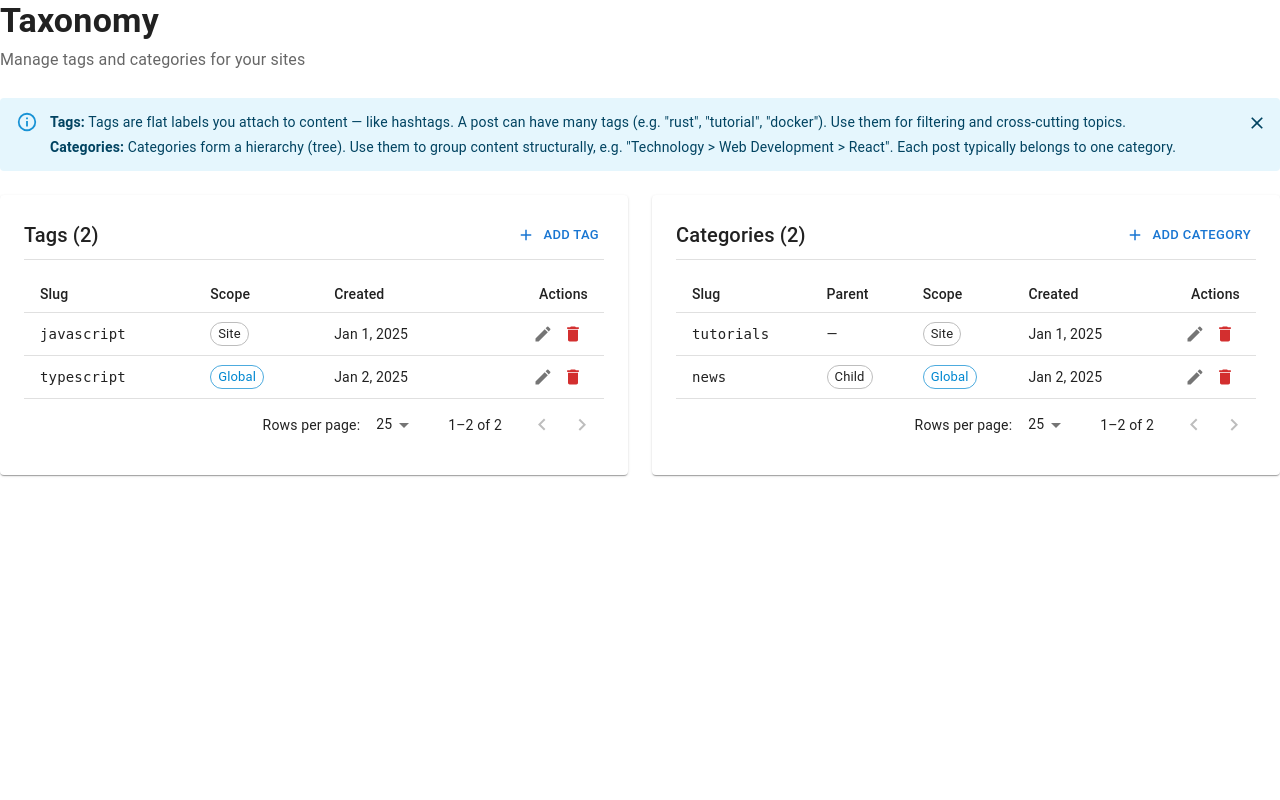
Test: TaxonomyPage › opens tag form dialog on add click
Expected: the text "javascript" is shown, [40,326,126,342]
Click the button "Add Tag". click: (559, 235)
box: [514,220,604,250]
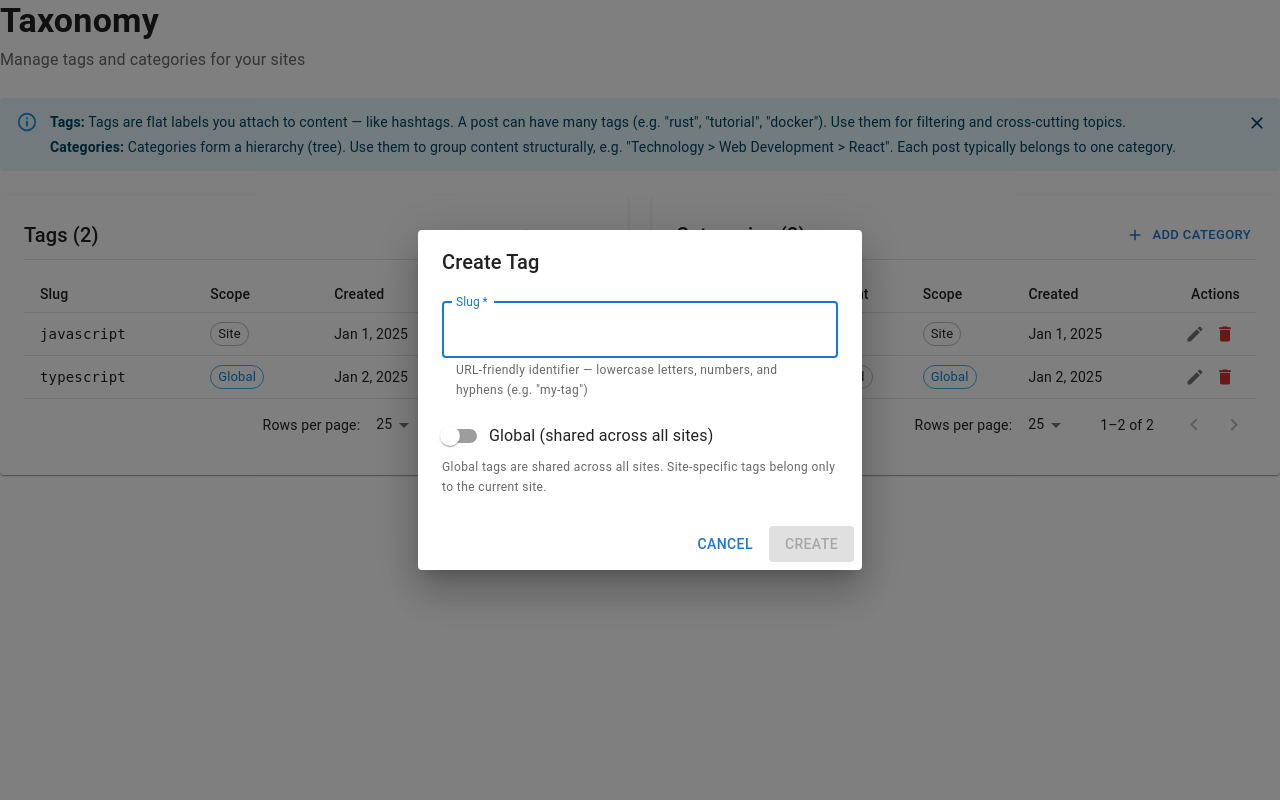
Expected: the dialog is shown, [418,230,862,570]
